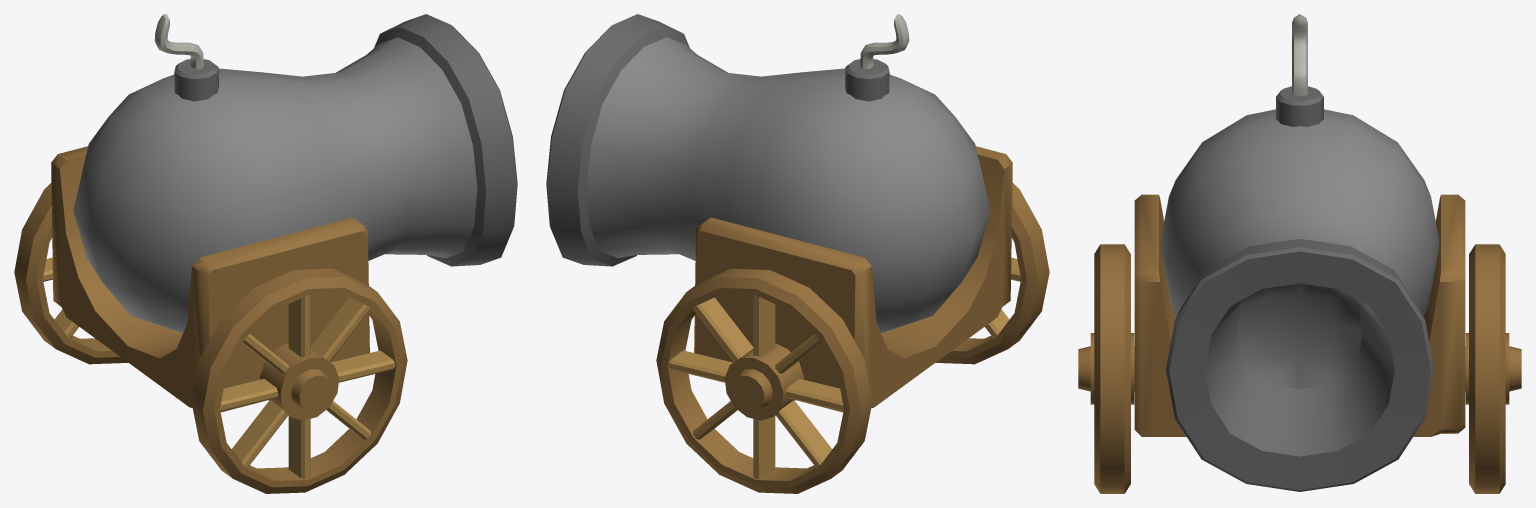
File: quaternius-platformer-game-pack-cannon.glb
3 renders of one model, left to right at view 1: azimuth 30°, elevation 25°; view 2: azimuth 150°, elevation 25°; view 3: azimuth 270°, elevation 25°, orthographic. The views are drawn at different scales.
Visible parts, largest first — view 1: Cannon, Cannon_Wheels; view 2: Cannon, Cannon_Wheels; view 3: Cannon, Cannon_Wheels.
Part boxes in pixels (<box>): Cannon: <box>51,14,517,412</box>; Cannon_Wheels: <box>14,183,407,493</box>; Cannon: <box>546,14,1012,412</box>; Cannon_Wheels: <box>656,183,1049,493</box>; Cannon: <box>1134,14,1465,491</box>; Cannon_Wheels: <box>1078,244,1521,493</box>.
Bounding box in the file's own units: 3.37 × 3.67 × 3.32.
